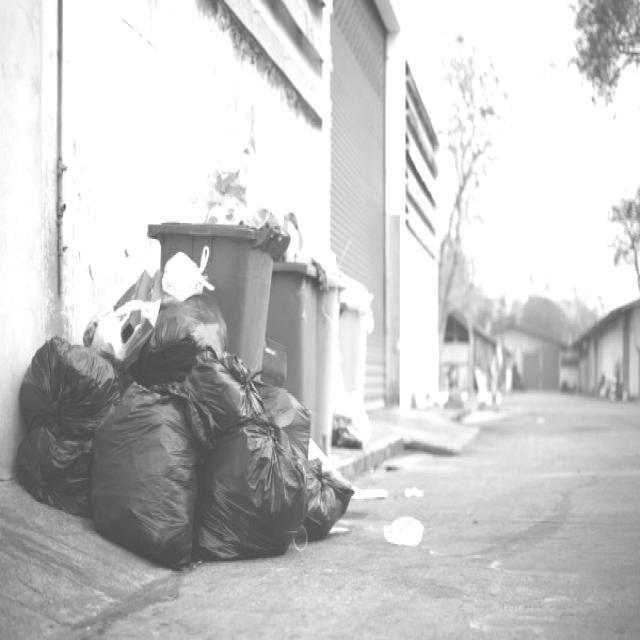high trash: (16, 252, 351, 568)
less trash: (384, 516, 424, 546)
